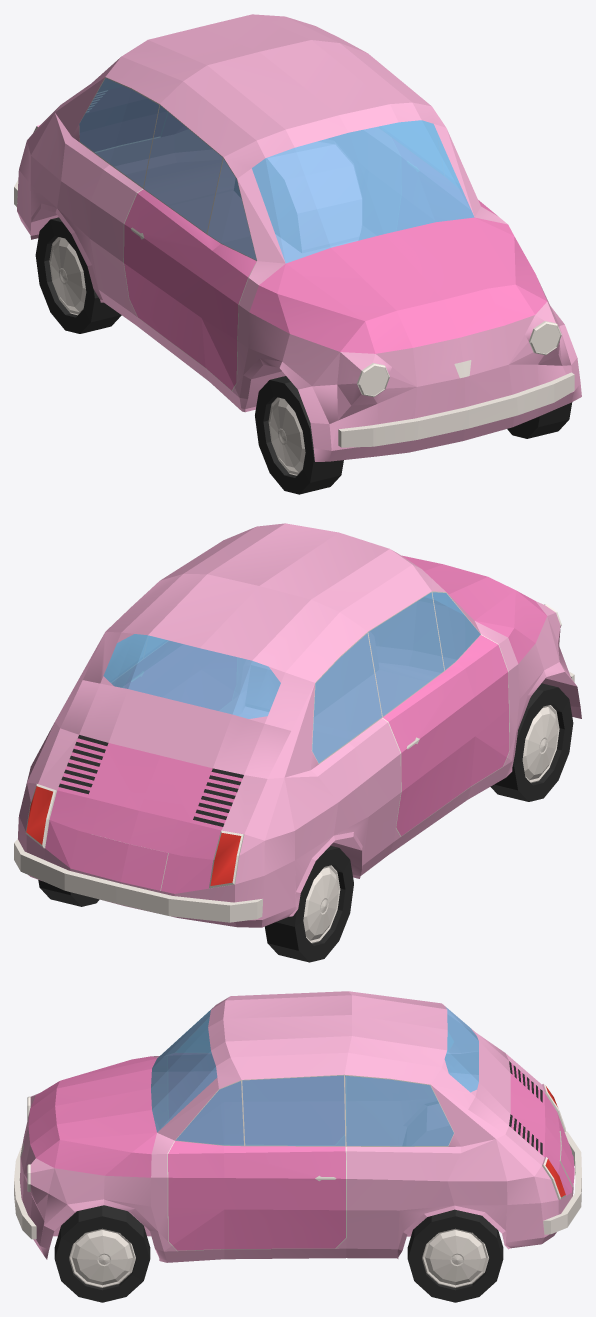
File: city-pink-car.glb
3 renders of one model, top to bottom at view 1: azimuth 30°, elevation 25°; view 2: azimuth 150°, elevation 25°; view 3: azimuth 270°, elevation 25°, orthographic. The views are drawn at different scales.
Visible parts, largest first — view 1: city-pink-car; view 2: city-pink-car; view 3: city-pink-car.
Boxes of the visible parts, x1,y1,x2,y2 form: city-pink-car: (14, 14, 581, 494); city-pink-car: (14, 523, 581, 962); city-pink-car: (14, 991, 581, 1302).
Size of the model in its own units: 0.4433 by 0.4418 by 0.96.
